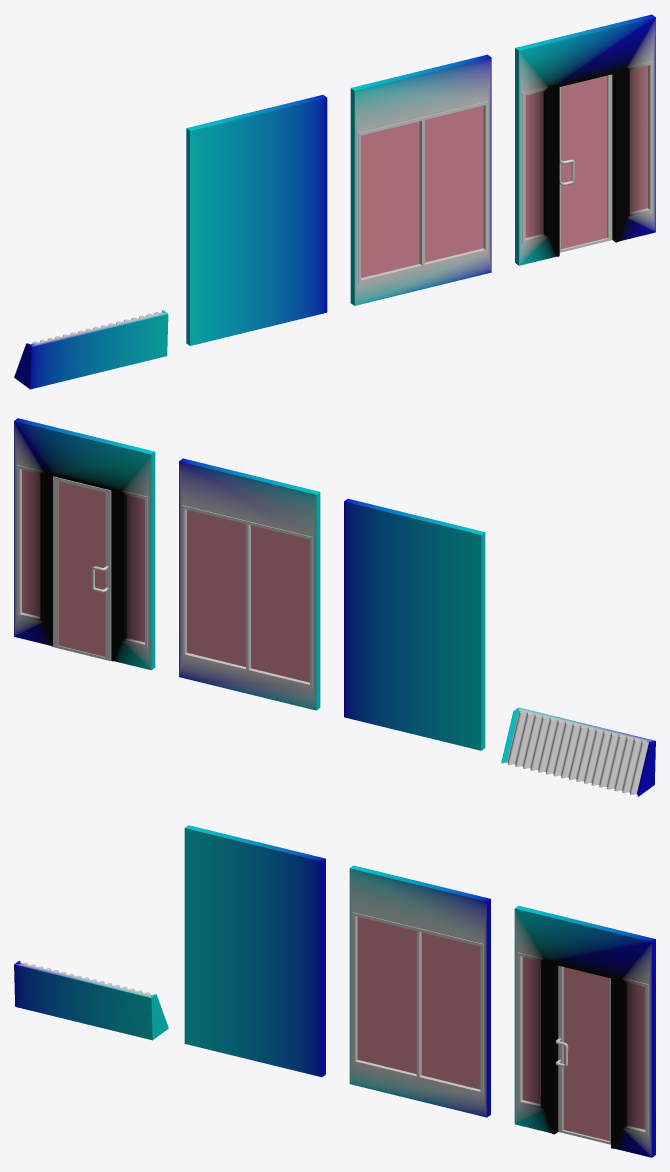
The model's file is MBSCoffeeShop_Walls.fbx.
3 views of the same model, one above another, from view 1: azimuth 30°, elevation 25°; view 2: azimuth 150°, elevation 25°; view 3: azimuth 330°, elevation 25° (orthographic).
Parts seen in each view (by area): view 1: Wall_solid.001, Wall_window.001, Wall_doorway.001, DoorFrame.001, Roof_wall.001; view 2: Wall_window.001, Wall_solid.001, Wall_doorway.001, DoorFrame.001, Roof_wall.001; view 3: Wall_solid.001, Wall_window.001, Wall_doorway.001, DoorFrame.001, Roof_wall.001.
Part boxes in pixels (x1,y1,x2,y2): Wall_solid.001: (186, 95, 327, 345); Wall_window.001: (350, 54, 491, 305); Wall_doorway.001: (515, 14, 655, 265); DoorFrame.001: (559, 74, 612, 252); Roof_wall.001: (14, 310, 168, 389); Wall_window.001: (179, 458, 320, 710); Wall_solid.001: (344, 498, 485, 750); Wall_doorway.001: (14, 418, 155, 670); DoorFrame.001: (53, 476, 111, 660); Roof_wall.001: (501, 707, 655, 796); Wall_solid.001: (184, 825, 325, 1077); Wall_window.001: (349, 865, 490, 1117); Wall_doorway.001: (514, 905, 655, 1157); DoorFrame.001: (555, 965, 610, 1144); Roof_wall.001: (14, 961, 168, 1040).
Size of the model in its own units: 920 by 300 by 44.
